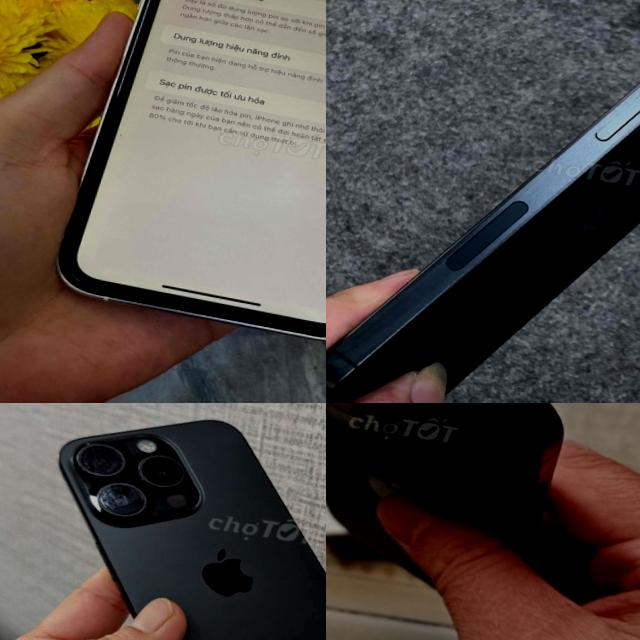scratch: (564, 182, 638, 250)
